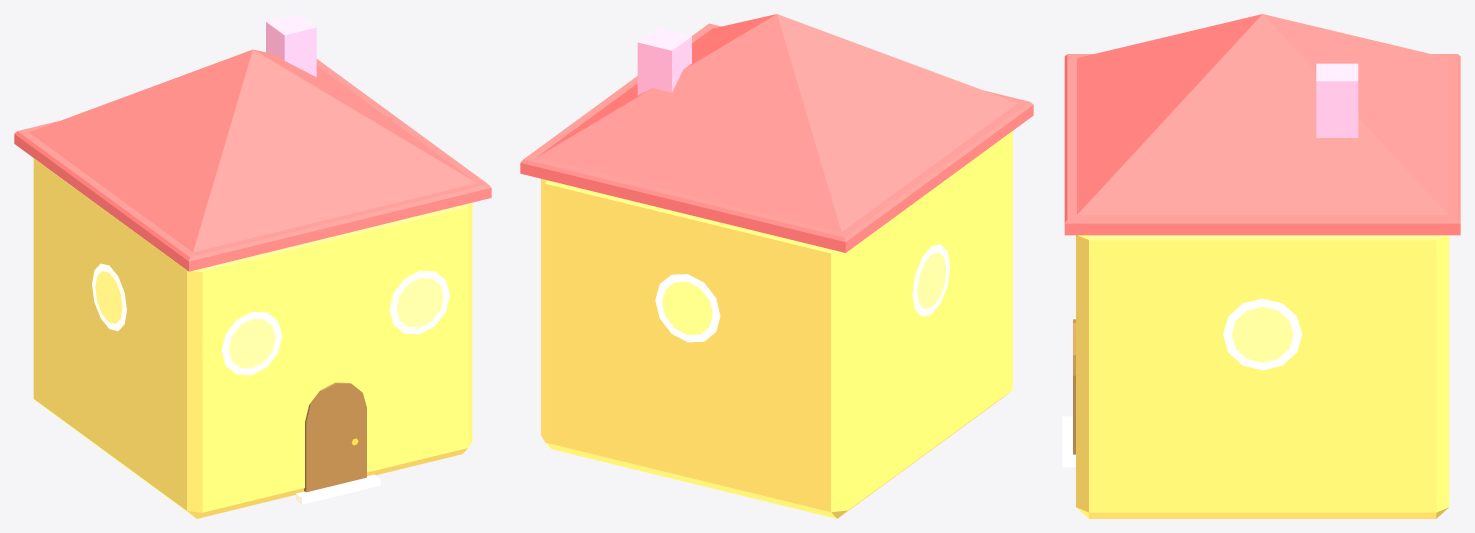
File: block-house-a.glb
The picture shows the model from 3 angles, left to right: view 1: azimuth 30°, elevation 25°; view 2: azimuth 150°, elevation 25°; view 3: azimuth 270°, elevation 25°; orthographic projection. The views are drawn at different scales.
Visible parts, largest first — view 1: block-house-a; view 2: block-house-a; view 3: block-house-a.
Boxes of the visible parts, x1,y1,x2,y2 form: block-house-a: (14,14,491,518); block-house-a: (520,14,1033,518); block-house-a: (1062,14,1460,518).
Bounding box in the file's own units: 8.48 × 10.2 × 8.53.
